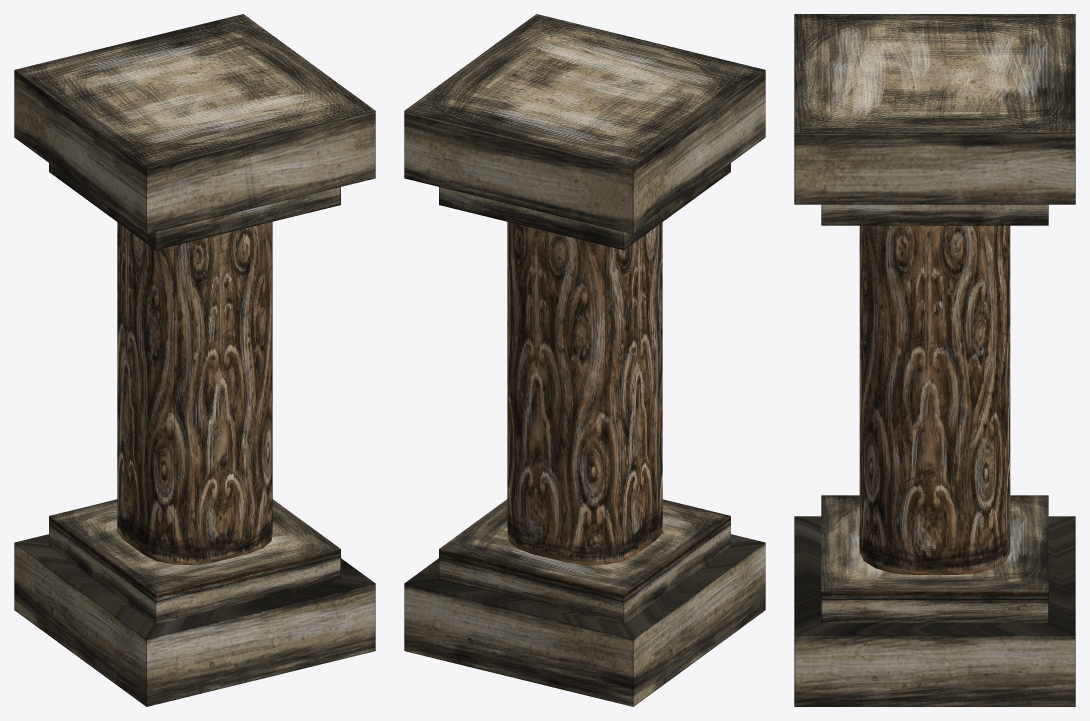
The model's file is column.fbx.
3 views of the same model, side by side, from view 1: azimuth 30°, elevation 25°; view 2: azimuth 150°, elevation 25°; view 3: azimuth 270°, elevation 25° (orthographic). The views are drawn at different scales.
Parts seen in each view (by area): view 1: pCube1; view 2: pCube1; view 3: pCube1.
Boxes of the visible parts, box(x1,y1,x2,y2) form: pCube1: box(14, 14, 375, 706); pCube1: box(404, 14, 765, 706); pCube1: box(794, 14, 1075, 706).
Size of the model in its own units: 0.4438 by 1 by 0.4438.
